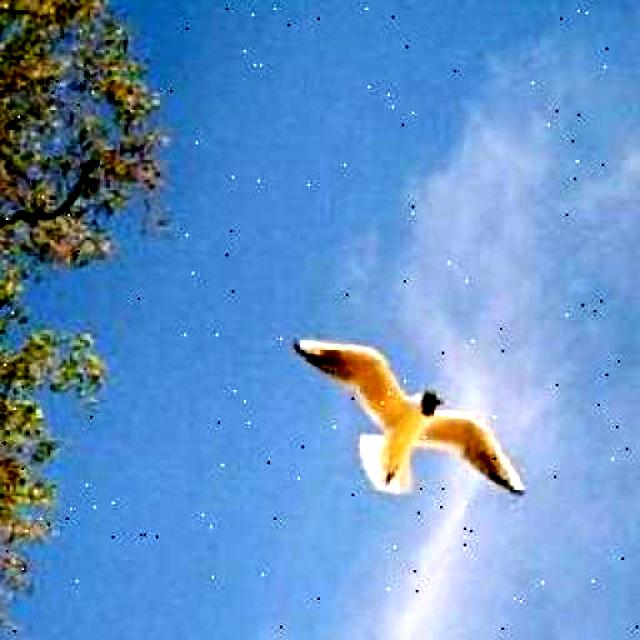airplane: (280, 334, 534, 510)
